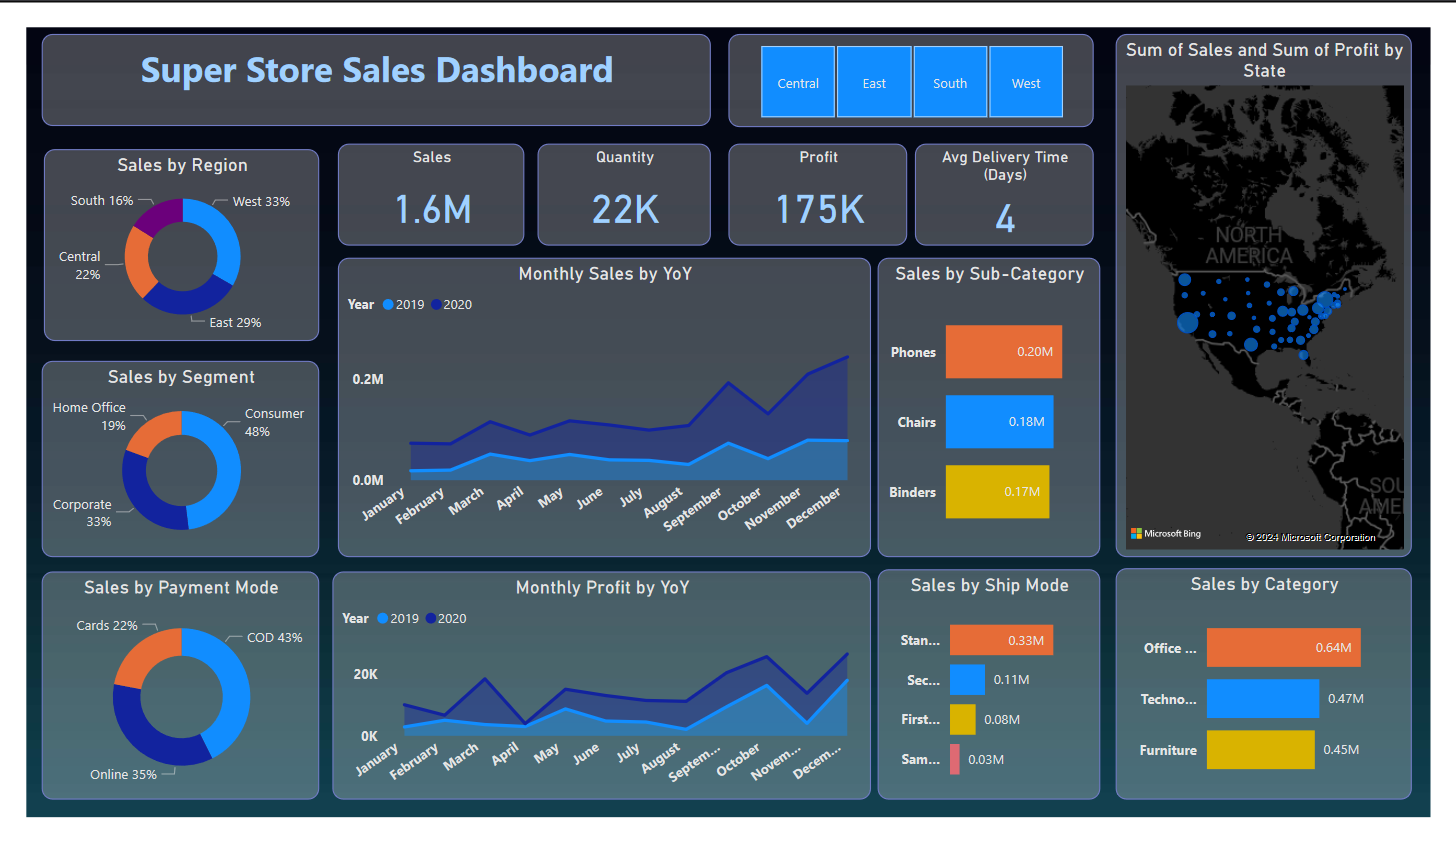

The dashboard page shown, as its layout file describes it:
{"tool":"powerbi","page":{"name":"Sales Dashboard","canvas":[1280,720],"ordinal":0},"visuals":[{"type":"clusteredBarChart","title":"Sales by Category","fields":{"Category":["SuperStore_Sales_Dataset.Category"],"Y":["Sum(SuperStore_Sales_Dataset.Sales)"]},"box":[992.9,492.9,270,211.4],"z":0},{"type":"clusteredBarChart","title":"Sales by Sub-Category","fields":{"Category":["SuperStore_Sales_Dataset.Sub-Category"],"Y":["Sum(SuperStore_Sales_Dataset.Sales)"]},"box":[775.7,210,202.9,272.9],"z":1000},{"type":"clusteredBarChart","title":"Sales by Ship Mode","fields":{"Category":["SuperStore_Sales_Dataset.Ship Mode"],"Y":["Sum(SuperStore_Sales_Dataset.Sales)"]},"box":[775.7,494.3,202.9,210],"z":2000},{"type":"stackedAreaChart","title":"Monthly Sales by YoY","fields":{"Y":["Sum(SuperStore_Sales_Dataset.Sales)"],"Category":["SuperStore_Sales_Dataset.Order Date.Variation.Date Hierarchy.Month","SuperStore_Sales_Dataset.Order Date.Variation.Date Hierarchy.Day"],"Series":["SuperStore_Sales_Dataset.Order Date.Variation.Date Hierarchy.Year"]},"box":[284.3,210,485.7,272.9],"z":3000},{"type":"stackedAreaChart","title":"Monthly Profit by YoY","fields":{"Category":["SuperStore_Sales_Dataset.Order Date.Variation.Date Hierarchy.Month","SuperStore_Sales_Dataset.Order Date.Variation.Date Hierarchy.Day"],"Series":["SuperStore_Sales_Dataset.Order Date.Variation.Date Hierarchy.Year"],"Y":["Sum(SuperStore_Sales_Dataset.Profit)"]},"box":[278.6,495.7,491.4,208.6],"z":4000},{"type":"map","fields":{"Category":["SuperStore_Sales_Dataset.State"],"Size":["Sum(SuperStore_Sales_Dataset.Sales)"]},"box":[992.9,5.7,270,477.1],"z":5000},{"type":"donutChart","title":"Sales by Segment","fields":{"Category":["SuperStore_Sales_Dataset.Segment"],"Y":["Sum(SuperStore_Sales_Dataset.Sales)"]},"box":[14.3,304.3,252.9,178.6],"z":6000},{"type":"donutChart","title":"Sales by Payment Mode","fields":{"Category":["SuperStore_Sales_Dataset.Payment Mode"],"Y":["Sum(SuperStore_Sales_Dataset.Sales)"]},"box":[14.3,495.7,252.9,208.6],"z":7000},{"type":"slicer","fields":{"Values":["SuperStore_Sales_Dataset.Region"]},"box":[640,5.7,332.9,85.7],"z":8000},{"type":"textbox","box":[14.3,5.7,610,84.3],"z":9000},{"type":"card","title":"Sales","fields":{"Values":["Sum(SuperStore_Sales_Dataset.Sales)"]},"box":[284.3,105.7,170,92.9],"z":10000},{"type":"card","title":"Quantity","fields":{"Values":["Sum(SuperStore_Sales_Dataset.Quantity)"]},"box":[465.7,105.7,158.6,92.9],"z":11000},{"type":"card","title":"Profit","fields":{"Values":["Sum(SuperStore_Sales_Dataset.Profit)"]},"box":[640,105.7,162.9,92.9],"z":12000},{"type":"card","title":"Avg Delivery Time (Days)","fields":{"Values":["Avg(SuperStore_Sales_Dataset.Avg Delivery)"]},"box":[810,105.7,162.9,92.9],"z":13000},{"type":"donutChart","title":"Sales by Region","fields":{"Y":["Sum(SuperStore_Sales_Dataset.Sales)"],"Category":["SuperStore_Sales_Dataset.Region"]},"box":[15.7,111.4,251.4,174.3],"z":14000}]}

Visuals, with their boxes in screenshot pixels (x1, y1, x2, y2), scaled from the page's 1280x720 canvas onto the 1456x842 screenshot:
"Sales by Category" clusteredBarChart: detection(1129, 576, 1437, 824)
"Sales by Sub-Category" clusteredBarChart: detection(882, 246, 1113, 565)
"Sales by Ship Mode" clusteredBarChart: detection(882, 578, 1113, 824)
"Monthly Sales by YoY" stackedAreaChart: detection(323, 246, 876, 565)
"Monthly Profit by YoY" stackedAreaChart: detection(317, 580, 876, 824)
map - SuperStore_Sales_Dataset.State x Sum(SuperStore_Sales_Dataset.Sales): detection(1129, 7, 1437, 565)
"Sales by Segment" donutChart: detection(16, 356, 304, 565)
"Sales by Payment Mode" donutChart: detection(16, 580, 304, 824)
slicer - SuperStore_Sales_Dataset.Region: detection(728, 7, 1107, 107)
textbox: detection(16, 7, 710, 105)
"Sales" card: detection(323, 124, 517, 232)
"Quantity" card: detection(530, 124, 710, 232)
"Profit" card: detection(728, 124, 913, 232)
"Avg Delivery Time (Days)" card: detection(921, 124, 1107, 232)
"Sales by Region" donutChart: detection(18, 130, 304, 334)
